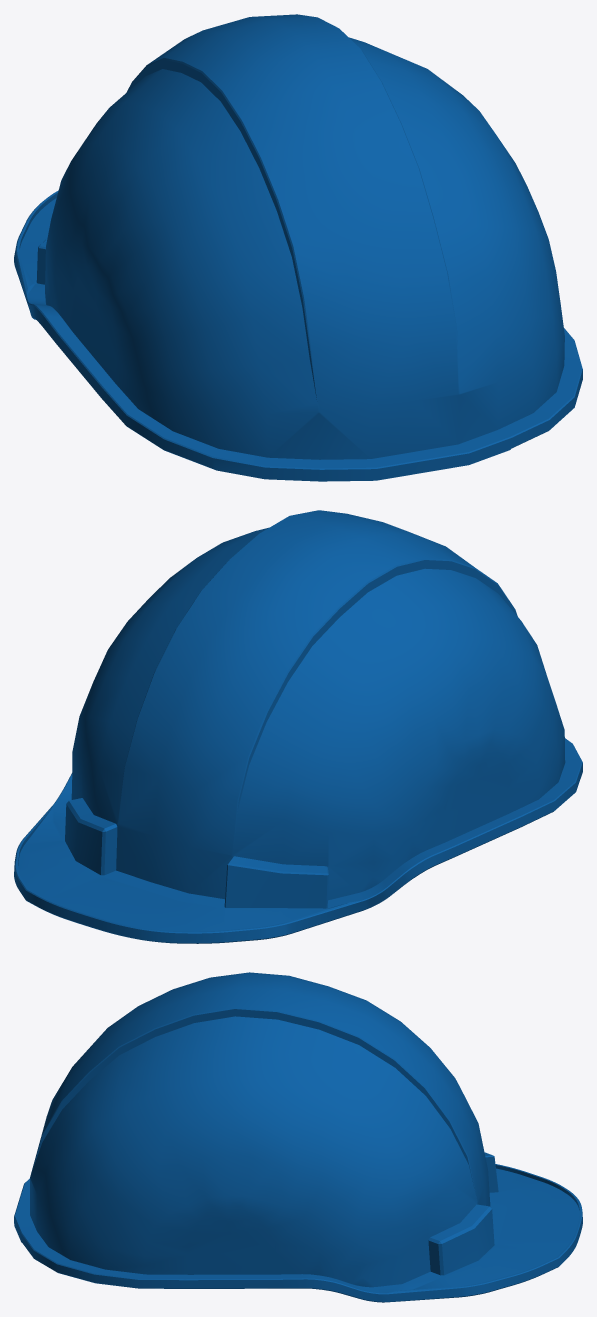
File: SM_Helmet_Blue.fbx
The picture shows the model from 3 angles, top to bottom: view 1: azimuth 30°, elevation 25°; view 2: azimuth 150°, elevation 25°; view 3: azimuth 270°, elevation 25°; orthographic projection. The views are drawn at different scales.
Visible parts, largest first — view 1: SM_Helmet_Blue; view 2: SM_Helmet_Blue; view 3: SM_Helmet_Blue.
Boxes of the visible parts, left/top/right/bottom form: SM_Helmet_Blue: left=14, top=14, right=582, bottom=481; SM_Helmet_Blue: left=14, top=510, right=582, bottom=943; SM_Helmet_Blue: left=14, top=972, right=582, bottom=1302.
Bounding box in the file's own units: 22.29 × 15.09 × 32.49.
